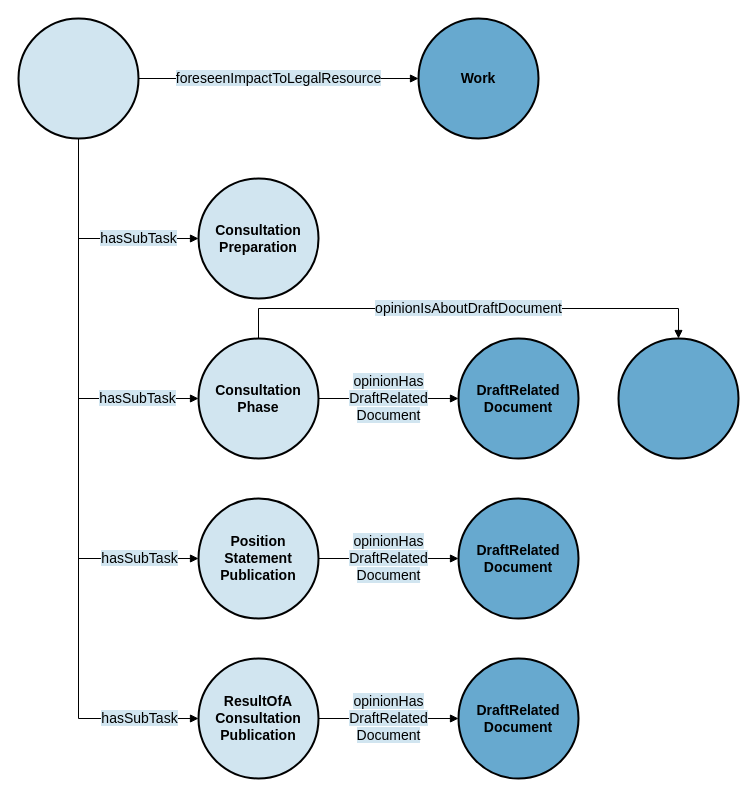
Some shapes in this 756 by 796 pixel diagram are drawn without their labels. Here are the shapes that lost their labels. From the top down, the centre of each, then its label:
point 78,78: Consultation
point 678,398: Draft Document
